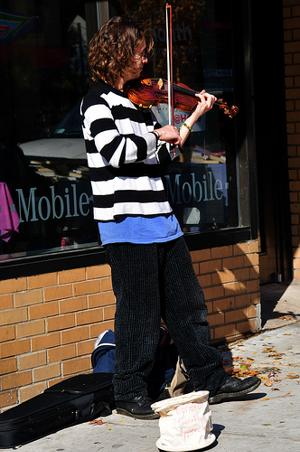person: (80, 15, 264, 423)
